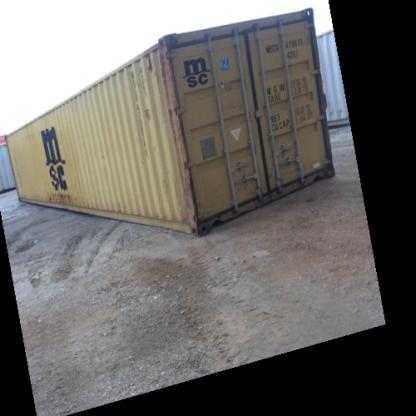Damage: (157, 40, 202, 177), (38, 184, 84, 206), (14, 128, 44, 142), (138, 107, 154, 127)
